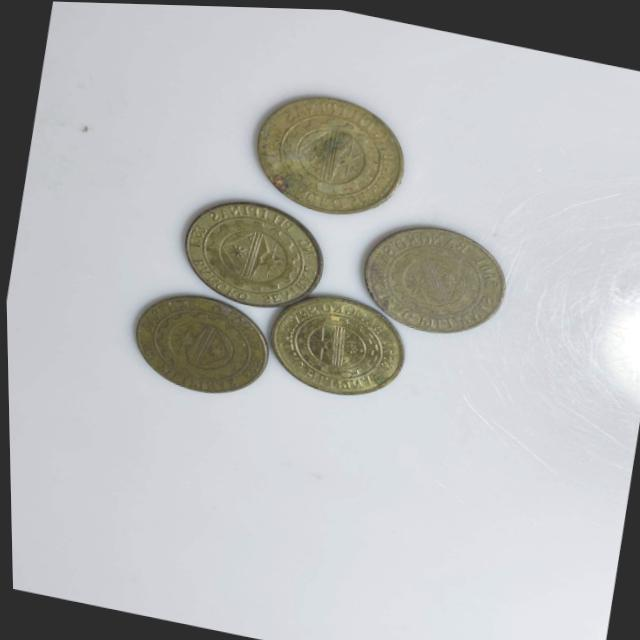25Cent_Old_Back: (251, 88, 415, 220), (353, 207, 515, 338), (180, 191, 323, 310), (119, 289, 269, 400), (263, 285, 401, 398)
